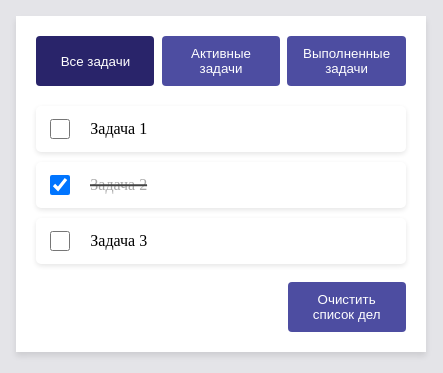
Test case: TodoList component › filter active tasks
This screenshot has width=443, height=373.
What coordinates should you click on to do the following:
click the button "Активные задачи"
I would click on:
 (221, 61)
Its box is 162,36 -> 280,86.
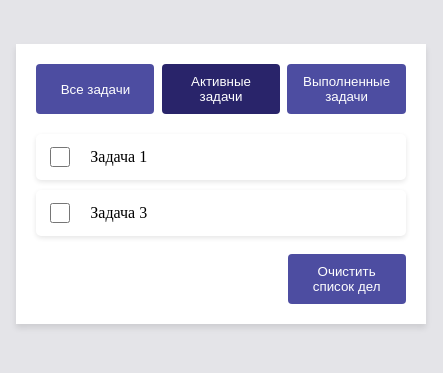
expect the text "Задача 1" is shown: met, box 90,148 -> 147,166
expect the text "Задача 1" is shown 2 times: met, box 90,148 -> 147,166; 90,204 -> 147,222
